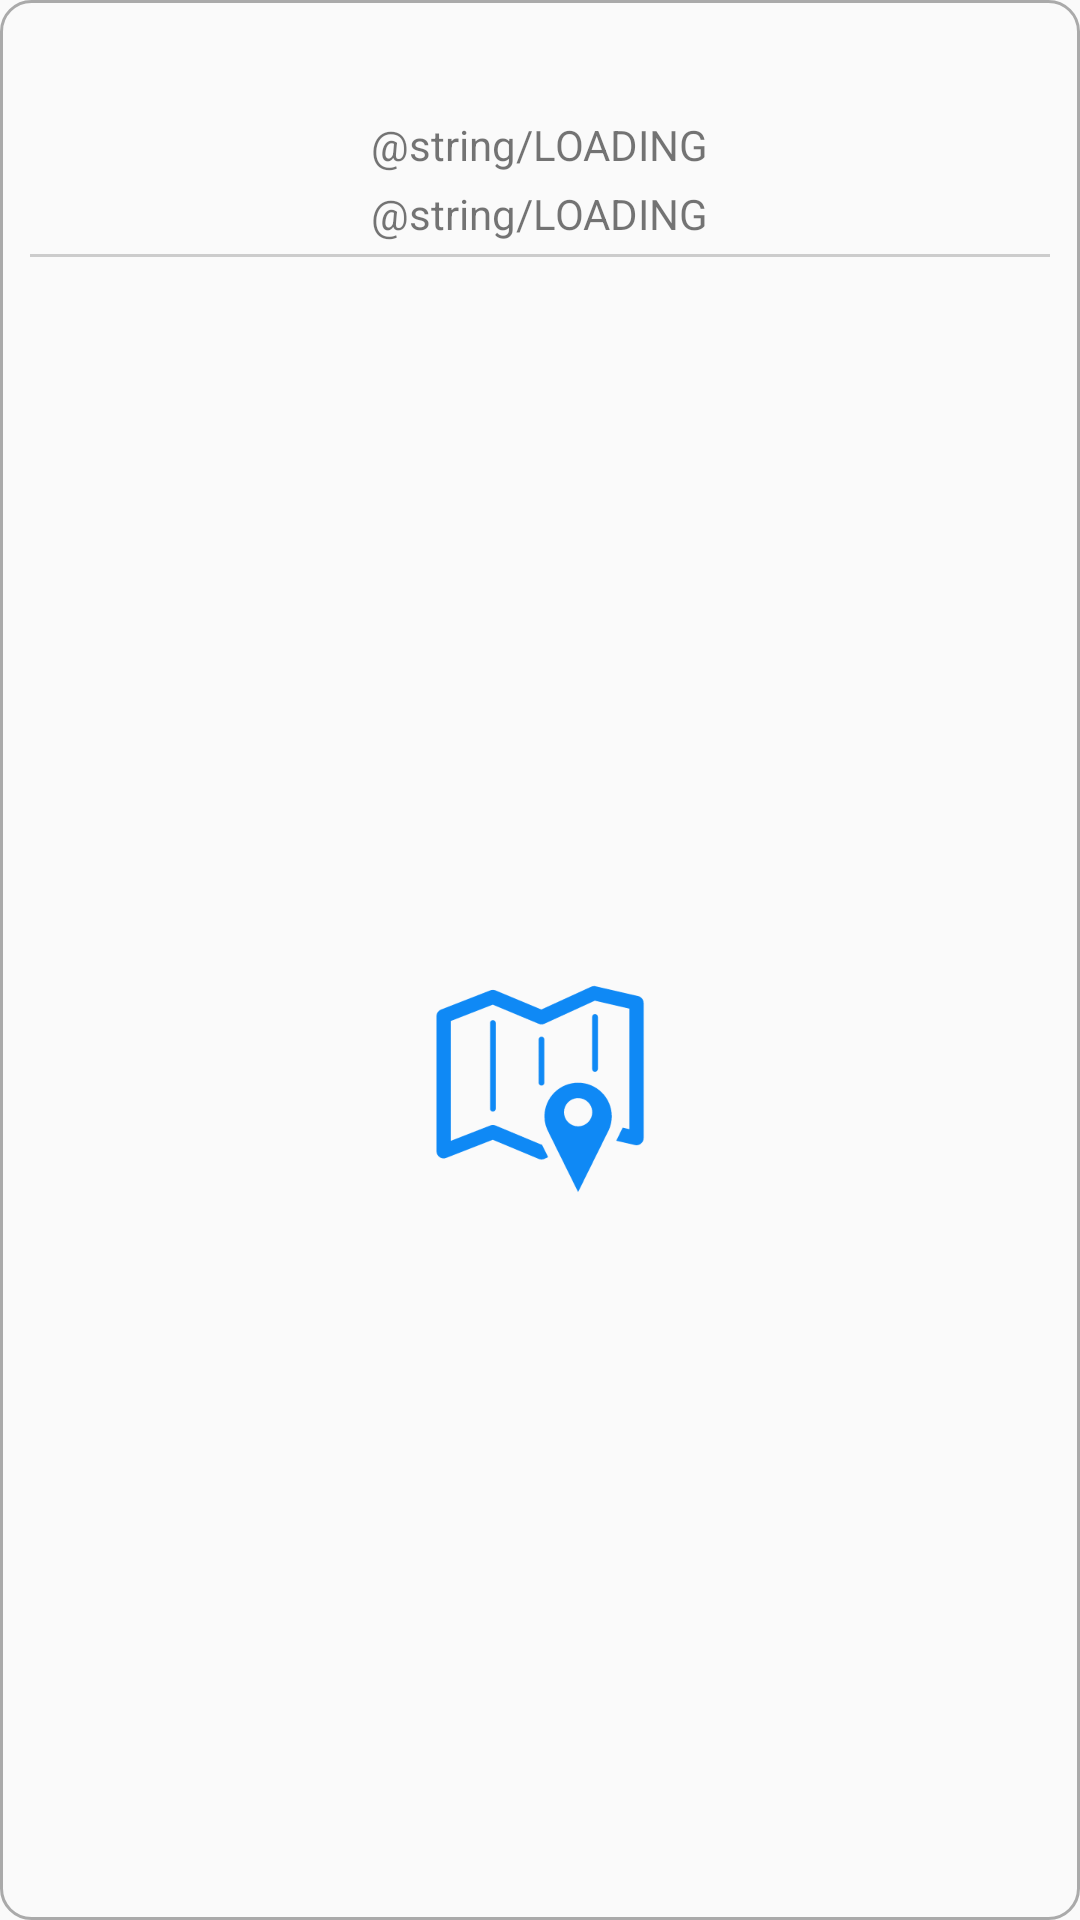

Named icons in this screenshot (1080px×1920px) and their bounding boxes, Rect(x1, y1, x2, y2):
area: Rect(436, 985, 644, 1192)
